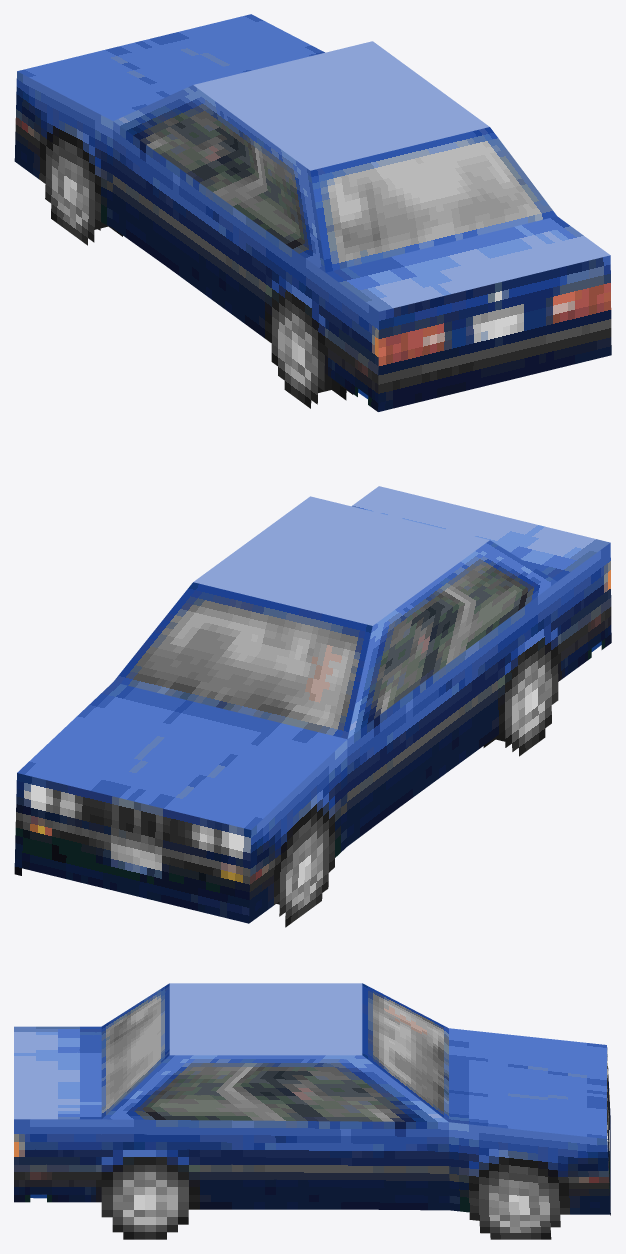
File: car-bmw-plt2.glb
3 renders of one model, top to bottom at view 1: azimuth 30°, elevation 25°; view 2: azimuth 150°, elevation 25°; view 3: azimuth 270°, elevation 25°, orthographic. The views are drawn at different scales.
Visible parts, largest first — view 1: car-bmw-plt2; view 2: car-bmw-plt2; view 3: car-bmw-plt2.
Boxes of the visible parts, box(x1,y1,x2,y2) form: car-bmw-plt2: box(14, 14, 611, 411); car-bmw-plt2: box(14, 486, 611, 927); car-bmw-plt2: box(14, 983, 610, 1239).
Size of the model in its own units: 1.41 by 1.21 by 3.78.
15 materials, 15 textured.
